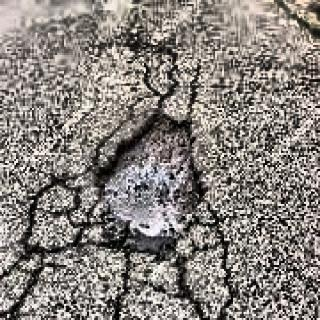crack: (4, 173, 83, 320), (151, 255, 245, 320)
pothole: (99, 115, 221, 248)
